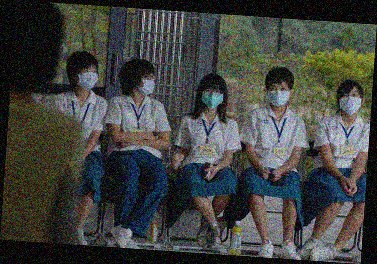with_mask: (339, 89, 362, 116), (268, 83, 291, 107), (201, 87, 224, 111), (77, 66, 99, 91), (138, 73, 156, 96)
